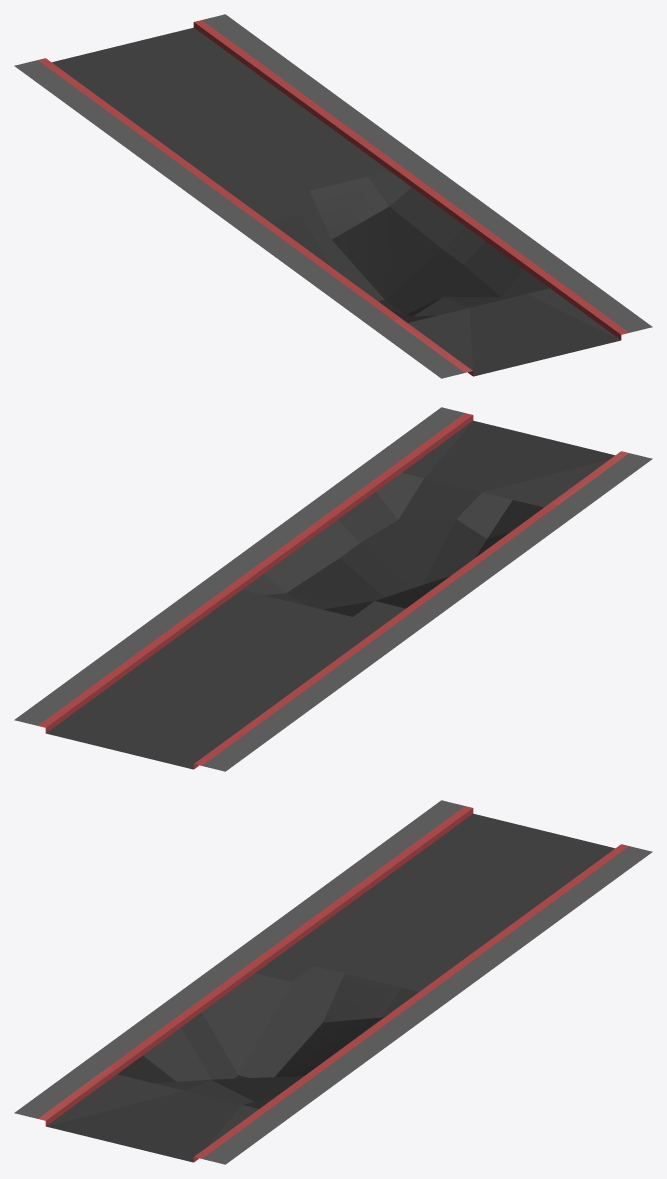
Rendered from SM_road_construction.FBX.
3 renders of one model, top to bottom at view 1: azimuth 30°, elevation 25°; view 2: azimuth 150°, elevation 25°; view 3: azimuth 330°, elevation 25°, orthographic.
Visible parts, largest first — view 1: SM_road_construction; view 2: SM_road_construction; view 3: SM_road_construction.
Part boxes in pixels (x1=…): SM_road_construction: x1=14, y1=14, x2=652, y2=378; SM_road_construction: x1=14, y1=407, x2=652, y2=771; SM_road_construction: x1=14, y1=800, x2=652, y2=1164.
Bounding box in the file's own units: 1000 × 269 × 3500.
